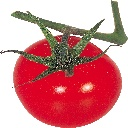tomato: (13, 31, 122, 128)
